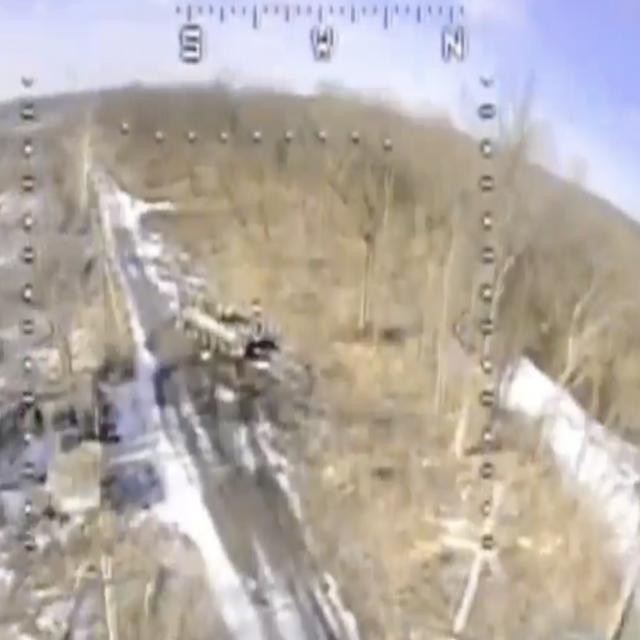vehicle: (178, 286, 274, 364)
